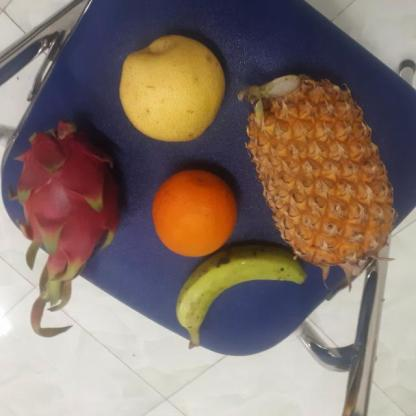banana: (178, 245, 300, 338)
orange: (148, 168, 244, 260)
pear: (118, 33, 231, 143)
pineapple: (246, 74, 400, 262)
pitaya: (7, 123, 129, 281)
